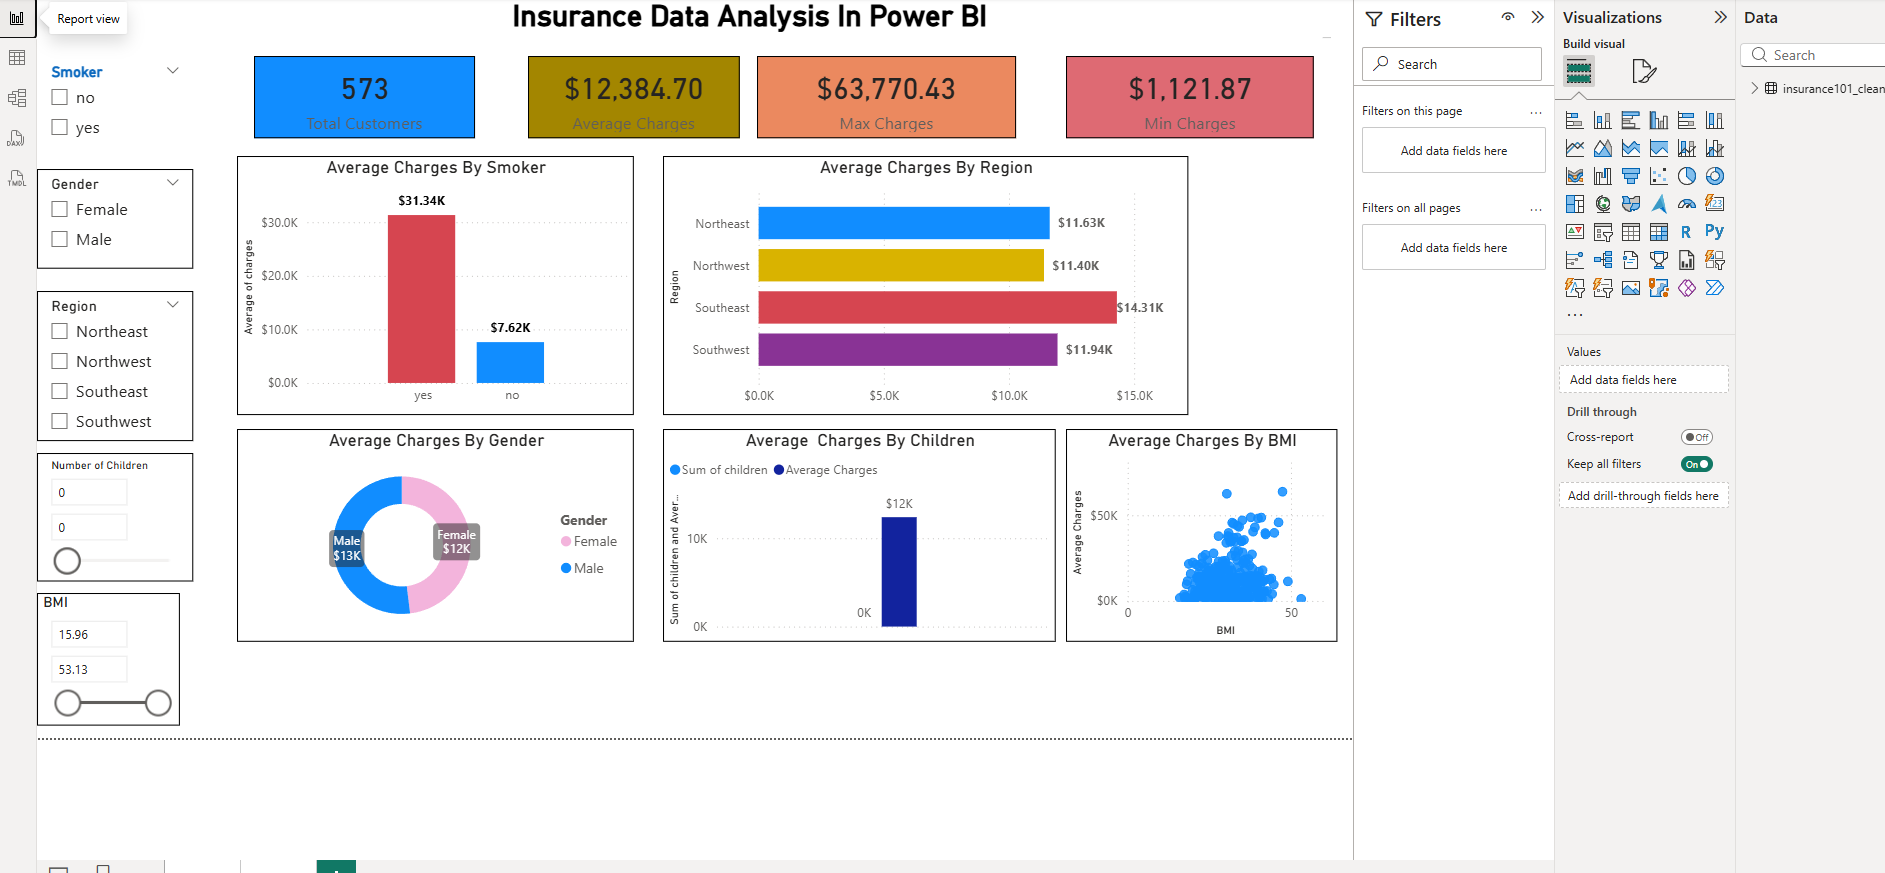

This screenshot's page, from the dashboard's own definition file:
{"tool":"powerbi","page":{"name":"Page 1","canvas":[1280,720],"ordinal":0},"visuals":[{"type":"card","fields":{"Values":["insurance101_clean.Total Customers"]},"box":[211.1,56.5,214.7,80.4],"z":0},{"type":"card","fields":{"Values":["insurance101_clean.Average Charges"]},"box":[477.9,56.5,205.8,80.4],"z":1000},{"type":"card","fields":{"Values":["insurance101_clean.Max Charges"]},"box":[700.5,56.5,251.8,80.4],"z":2000},{"type":"card","fields":{"Values":["insurance101_clean.Min Charges"]},"box":[1000.9,56.5,241.2,80.4],"z":3000},{"type":"columnChart","title":"Average Charges By Smoker ","fields":{"Category":["insurance101_clean.smoker"],"Y":["Avg(insurance101_clean.charges)"]},"box":[194.3,153.7,386,251.8],"z":4000},{"type":"clusteredBarChart","title":"Average Charges By Region ","fields":{"Category":["insurance101_clean.region"],"Y":["Avg(insurance101_clean.charges)"]},"box":[608.9,153.7,510.6,251.9],"z":5000},{"type":"donutChart","title":"Average Charges By Gender ","fields":{"Category":["insurance101_clean.sex"],"Y":["insurance101_clean.Average Charges"]},"box":[194.1,419.2,386.4,207],"z":6000},{"type":"clusteredColumnChart","title":"Average  Charges By Children","fields":{"Y":["Sum(insurance101_clean.children)","insurance101_clean.Average Charges"]},"box":[608.9,419.2,382.2,207.2],"z":7000},{"type":"scatterChart","title":"Average Charges By BMI  ","fields":{"X":["Sum(insurance101_clean.bmi)"],"Y":["insurance101_clean.Average Charges"]},"box":[1000.9,419.2,263.6,207.2],"z":8000},{"type":"slicer","fields":{"Values":["insurance101_clean.smoker"]},"box":[0,57,152.3,97.3],"z":9000},{"type":"slicer","fields":{"Values":["insurance101_clean.sex"]},"box":[0,166,152.3,97.3],"z":10000},{"type":"slicer","fields":{"Values":["insurance101_clean.region"]},"box":[0,284.9,152.3,146.4],"z":11000},{"type":"slicer","fields":{"Values":["insurance101_clean.children"]},"box":[0,443,152.3,124.8],"z":12000},{"type":"slicer","title":"BMI","fields":{"Values":["insurance101_clean.bmi"]},"box":[0,578.6,139.5,128.7],"z":13000},{"type":"textbox","title":"Insurance Data Analysis In Power BI","box":[122.8,0,1141.5,43.2],"z":14000}]}

Visuals, with their boxes on the page's 1280x720 design canvas (x1, y1, x2, y2). These are canvas units, not pixel positions in the 1885x873 screenshot, which may show the page scaled, cropped or inside an application window:
card - insurance101_clean.Total Customers: 211, 56, 426, 137
card - insurance101_clean.Average Charges: 478, 56, 684, 137
card - insurance101_clean.Max Charges: 700, 56, 952, 137
card - insurance101_clean.Min Charges: 1001, 56, 1242, 137
"Average Charges By Smoker " columnChart: 194, 154, 580, 406
"Average Charges By Region " clusteredBarChart: 609, 154, 1120, 406
"Average Charges By Gender " donutChart: 194, 419, 580, 626
"Average  Charges By Children" clusteredColumnChart: 609, 419, 991, 626
"Average Charges By BMI  " scatterChart: 1001, 419, 1264, 626
slicer - insurance101_clean.smoker: 0, 57, 152, 154
slicer - insurance101_clean.sex: 0, 166, 152, 263
slicer - insurance101_clean.region: 0, 285, 152, 431
slicer - insurance101_clean.children: 0, 443, 152, 568
"BMI" slicer: 0, 579, 140, 707
"Insurance Data Analysis In Power BI" textbox: 123, 0, 1264, 43
